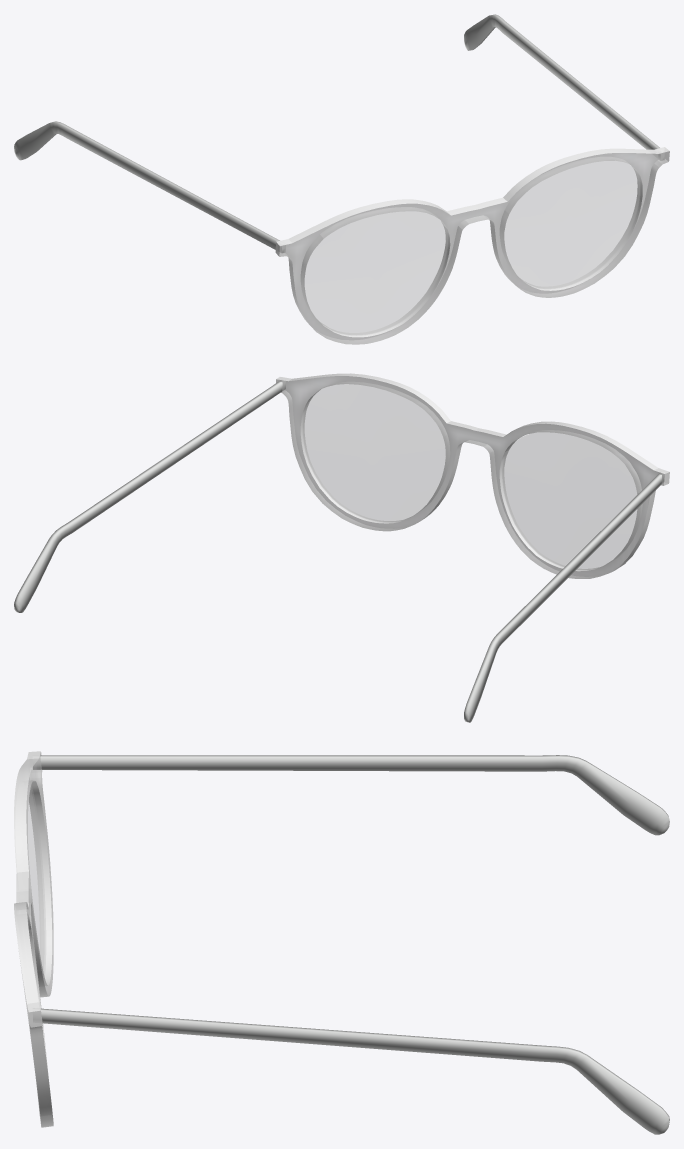
File: accessory2.glb
3 views of the same model, one above another, from view 1: azimuth 30°, elevation 25°; view 2: azimuth 150°, elevation 25°; view 3: azimuth 270°, elevation 25° (orthographic). The views are drawn at different scales.
Parts seen in each view (by area): view 1: s4studio_mesh_2, s4studio_mesh_1; view 2: s4studio_mesh_2, s4studio_mesh_1; view 3: s4studio_mesh_1, s4studio_mesh_2.
Boxes of the visible parts, <box> form: s4studio_mesh_2: <box>275,147,669,344</box>; s4studio_mesh_1: <box>14,14,664,252</box>; s4studio_mesh_2: <box>276,373,669,578</box>; s4studio_mesh_1: <box>14,380,664,722</box>; s4studio_mesh_1: <box>33,755,669,1134</box>; s4studio_mesh_2: <box>14,751,53,1127</box>.
Size of the model in its own units: 0.1482 by 0.0447 by 0.1358.
1 material, 1 textured.
